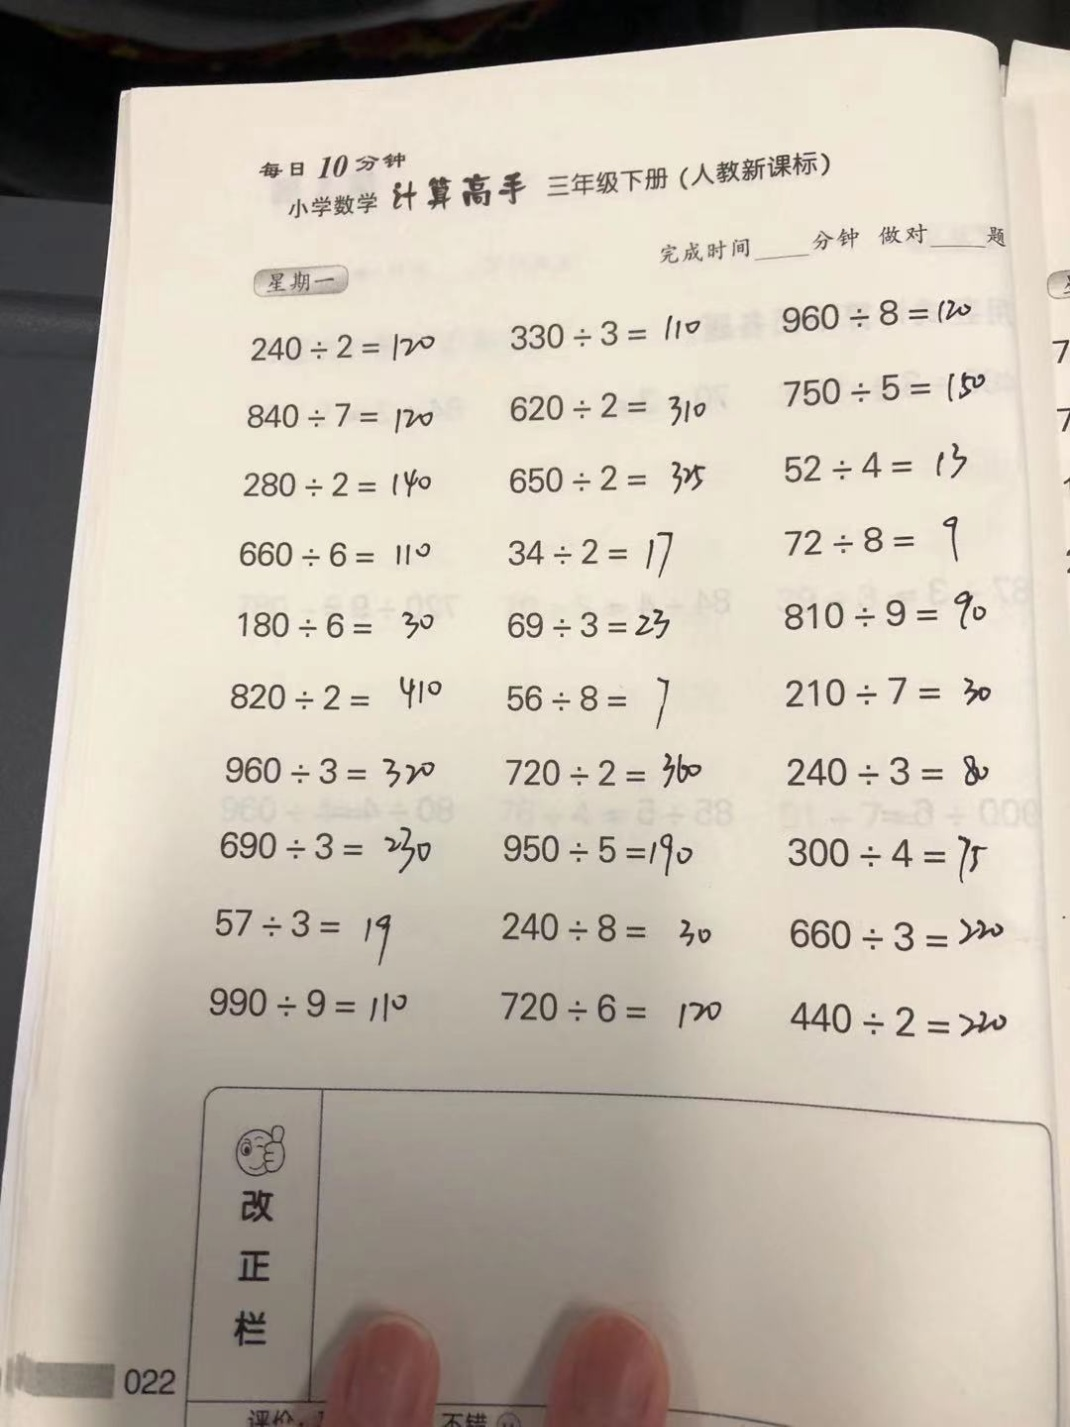equation: (483, 902, 734, 963), (777, 987, 1021, 1049), (208, 817, 438, 882), (199, 896, 438, 958), (491, 821, 718, 884), (497, 452, 737, 511), (200, 978, 457, 1033), (761, 587, 1005, 644), (774, 827, 1004, 885), (775, 907, 1020, 961), (770, 666, 1010, 720), (491, 748, 726, 803), (491, 986, 737, 1038), (225, 600, 458, 653), (232, 533, 477, 583), (502, 522, 700, 582), (763, 441, 984, 494), (770, 513, 985, 567), (225, 458, 469, 505), (503, 388, 730, 438), (784, 749, 1004, 800), (499, 309, 723, 359), (217, 751, 453, 798), (502, 672, 700, 728), (223, 398, 458, 443), (777, 369, 1010, 414), (234, 330, 446, 379), (220, 676, 464, 718), (775, 292, 993, 339), (497, 602, 695, 653)
